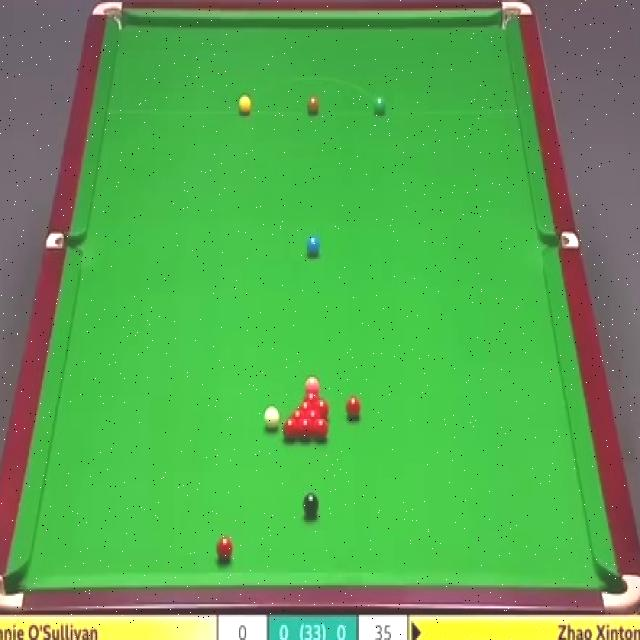black-ball: (304, 491, 320, 518)
blue-ball: (305, 234, 319, 260)
brown-ball: (306, 94, 320, 114)
green-ball: (373, 96, 387, 114)
pink-ball: (304, 376, 320, 392)
red-ball: (310, 414, 331, 442), (343, 396, 362, 420), (312, 399, 329, 422), (216, 536, 232, 560), (297, 416, 311, 439), (283, 417, 298, 438), (304, 391, 320, 406), (297, 403, 314, 416), (290, 411, 306, 423), (306, 410, 321, 420)
white-ball: (263, 404, 279, 434)
yellow-ball: (238, 94, 252, 114)
